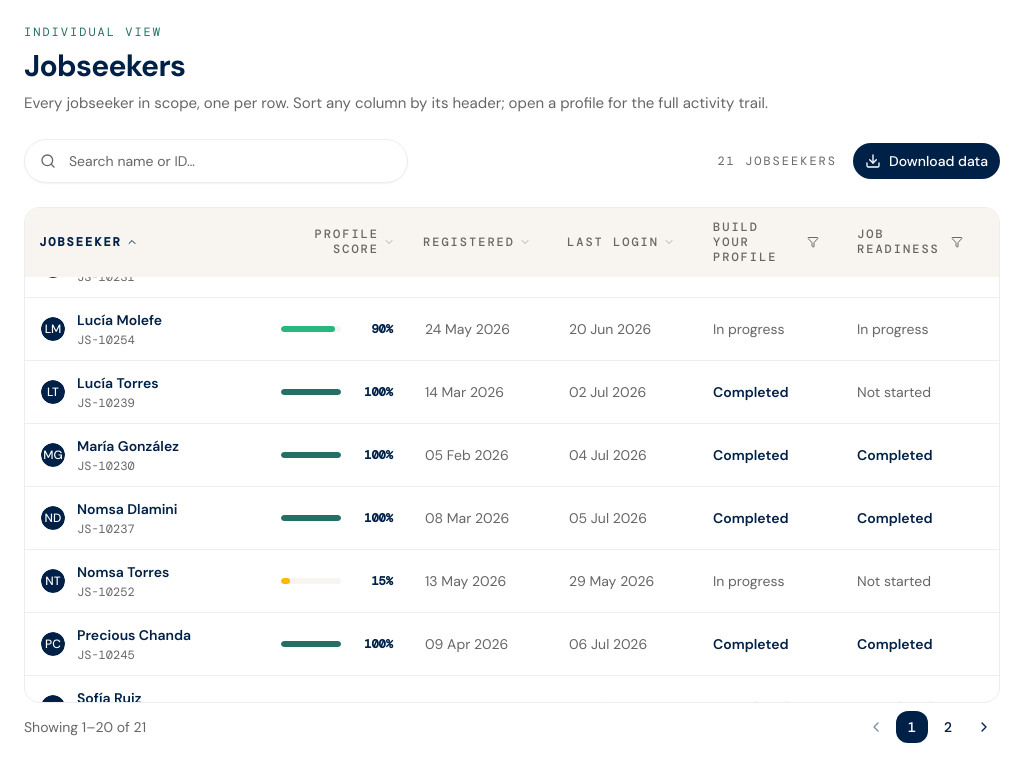
Test: Jobseekers › should open the profile of the jobseeker whose row is clicked, and close it again
(page scrolled)
WHEN a jobseeker's name is clicked
Step 1. Click the button "MG María González JS-10230" → (110, 454), box [41, 436, 179, 474]
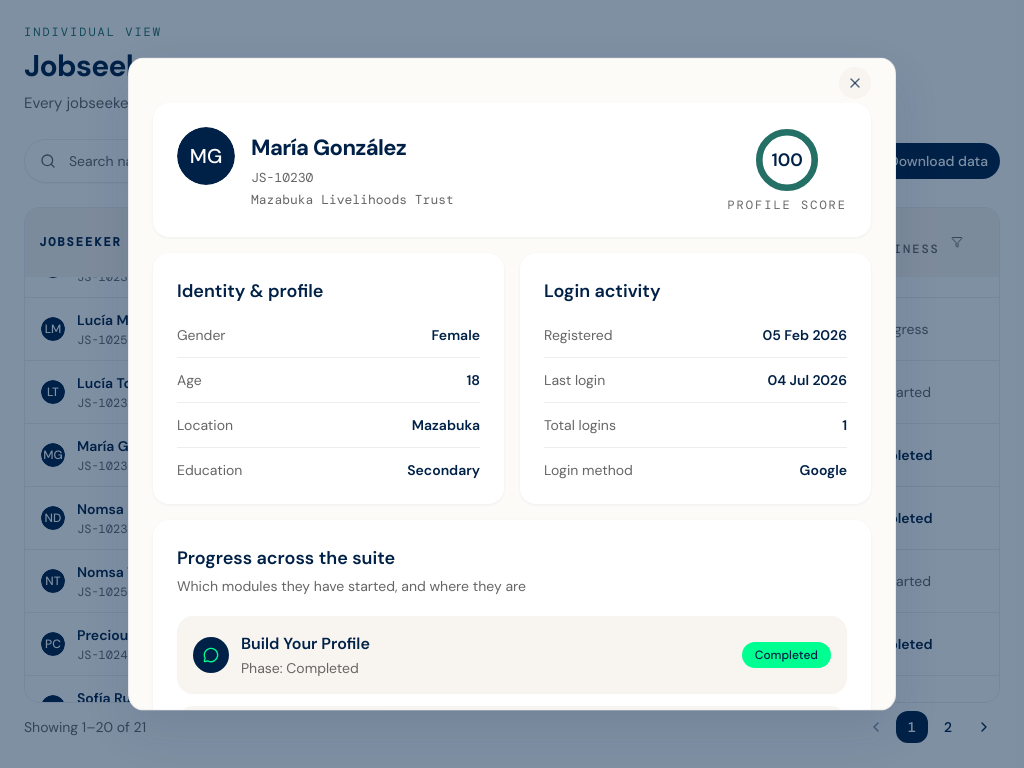
Expected: the heading "Progress across the suite" is shown, [177, 546, 395, 570]
Expected: the heading "Login activity" is shown, [544, 279, 661, 303]
Expected: the text "Total logins" is shown, [544, 415, 616, 435]
WHEN it is dismissed
Step 2. Click the button named "Close" → (855, 83), box [839, 67, 871, 99]
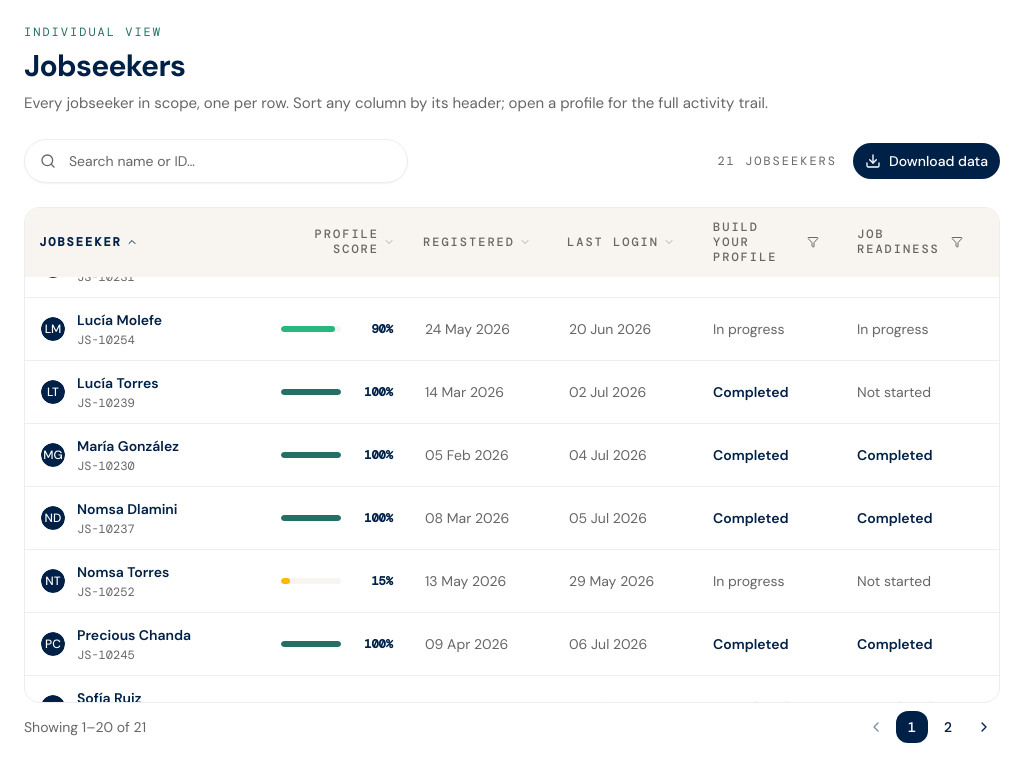
Expected: the dialog is gone
